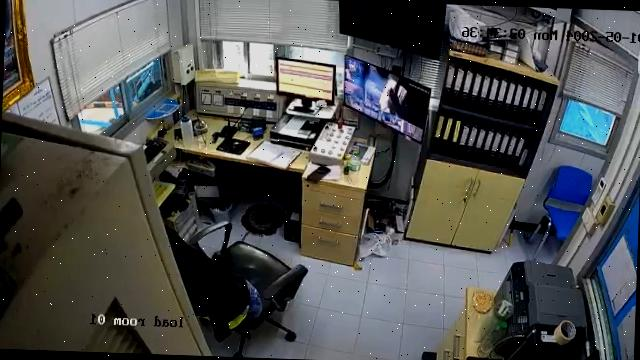Phone: (306, 165, 332, 184)
